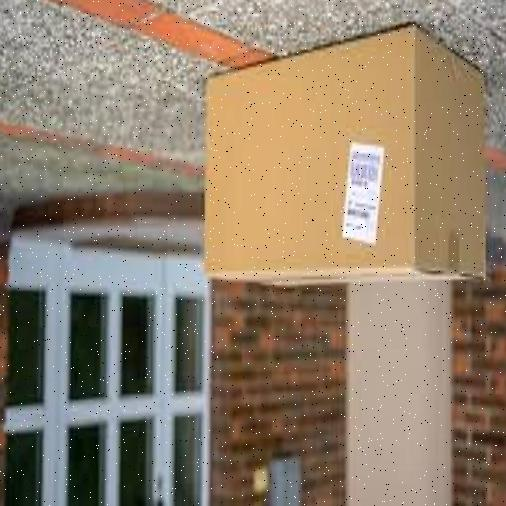Other: (203, 25, 492, 287)
